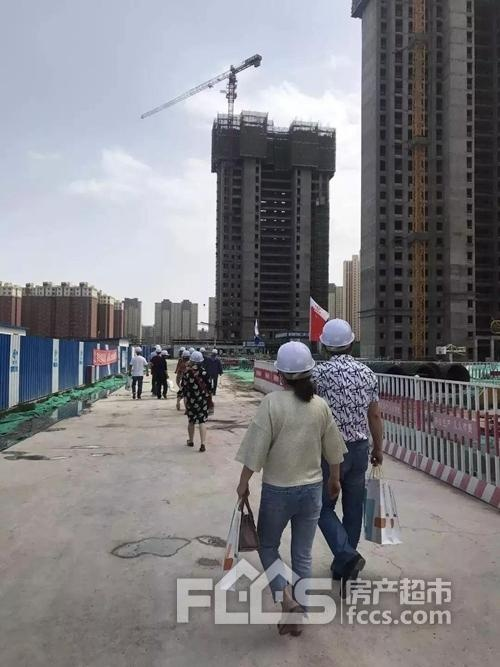white: (275, 340, 315, 394), (319, 318, 358, 363), (189, 347, 204, 367)
